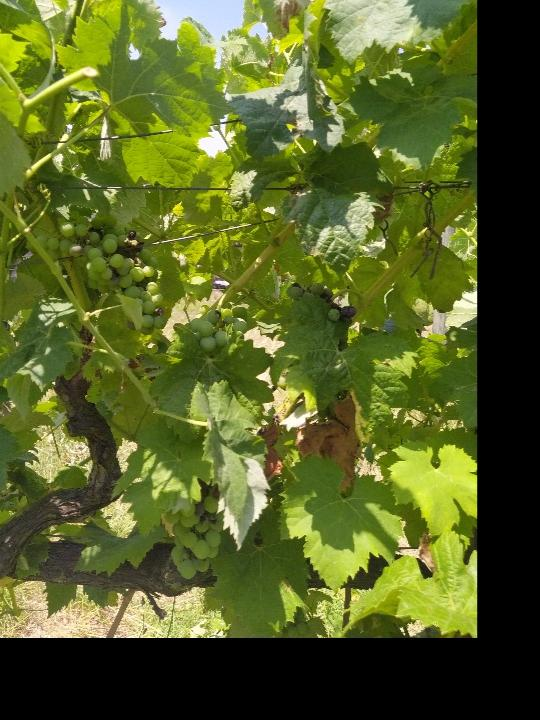grape: (46, 210, 166, 330)
